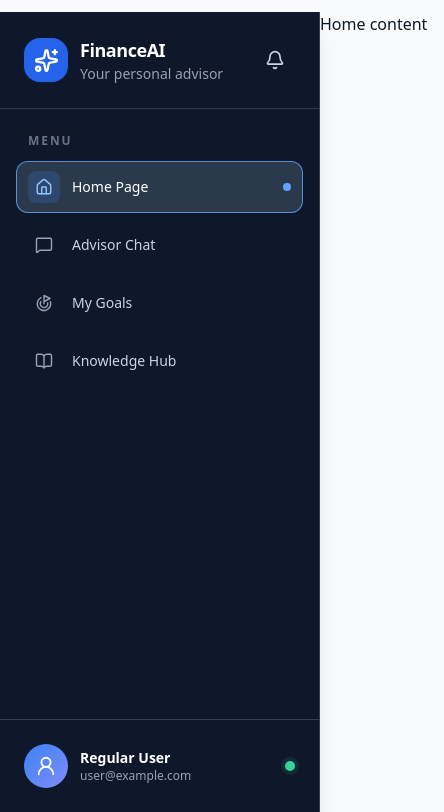
shows the empty goal notifications state
Click the button named "goal notifications" at (275, 60), box x1=255 y1=40 x2=295 y2=80
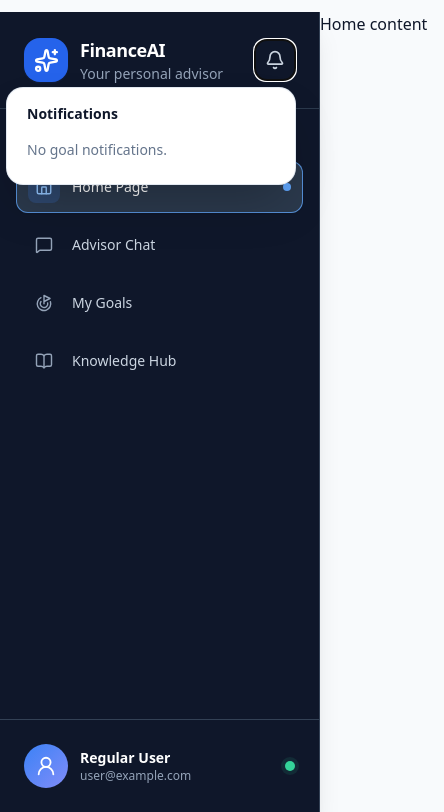
Check: the heading "Notifications" is shown, box x1=27 y1=104 x2=118 y2=123
Check: the text "No goal notifications." is shown, box x1=27 y1=140 x2=167 y2=159
